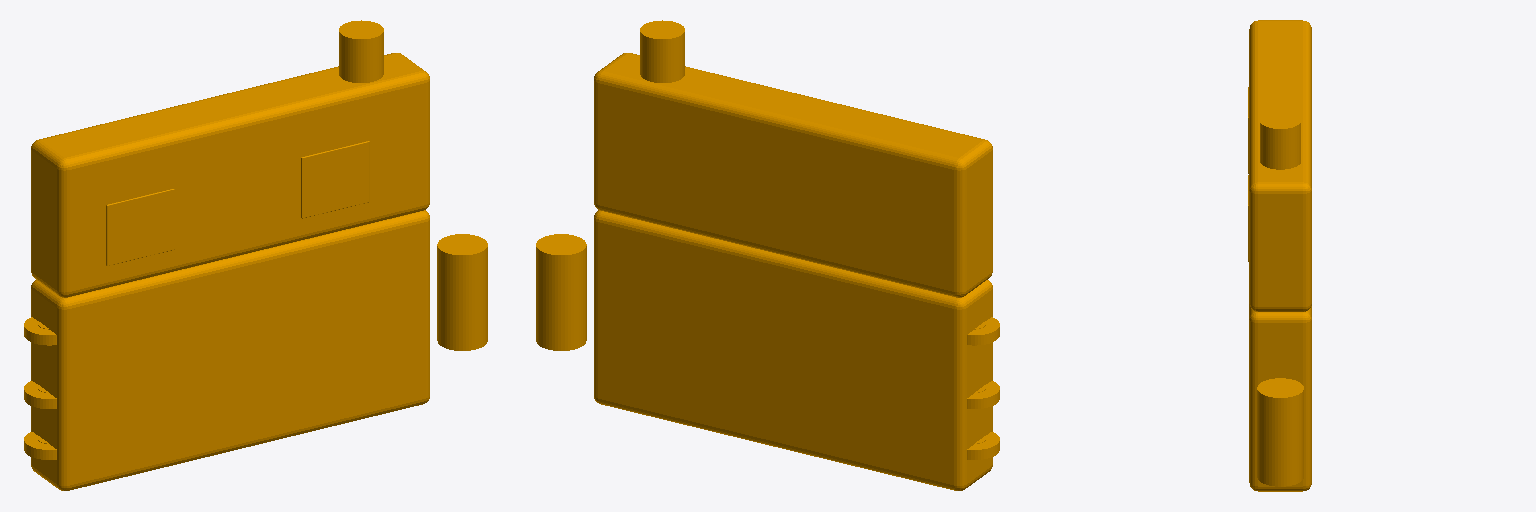
The robot description file, URDF, robot "schmalz_scpmc_05":
<?xml version="1.0"?>
<robot name="schmalz_scpmc_05">
<link name="mount"><visual ><geometry ><mesh filename="../meshes/mount.obj"/></geometry></visual><collision ><origin xyz="0 0 0.03265" rpy="0 0 0"/><geometry ><box size="0.0765 0.012 0.0653"/></geometry></collision></link>
<link name="tcp"></link>
<joint name="tcp_joint" type="fixed"><parent link="mount"/><child link="tcp"/><origin xyz="0 0 0" rpy="0 0 0"/></joint>
</robot>

--- What the picture shows (computed from the rendered views, not written in the file) ---
3 views of the same robot in one strip: view 1: azimuth 30°, elevation 25°; view 2: azimuth 150°, elevation 25°; view 3: azimuth 270°, elevation 25° (orthographic).
Robot: schmalz_scpmc_05 — 2 links, 1 joints (1 fixed); root link mount; default pose: all joints at 0.
Visible links, largest first — view 1: mount; view 2: mount; view 3: mount.
Boxes of the visible links, box(x1,y1,x2,y2) form: mount: box(24, 20, 487, 490); mount: box(536, 20, 999, 490); mount: box(1248, 20, 1311, 491).
Size in the robot's own frame: 0.0939 by 0.0123 by 0.0739 metres.
1 mesh visuals loaded from 1 distinct referenced files (1 OBJ).
